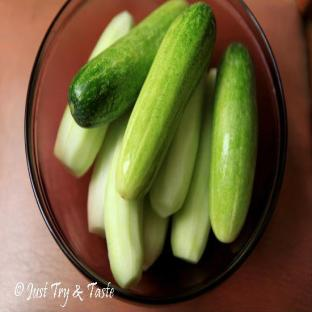Cucumber: (117, 3, 215, 198), (69, 0, 187, 127), (209, 44, 258, 243), (171, 69, 216, 263), (150, 75, 206, 217), (104, 134, 143, 288), (88, 116, 128, 237), (54, 106, 107, 176), (143, 197, 169, 270)
